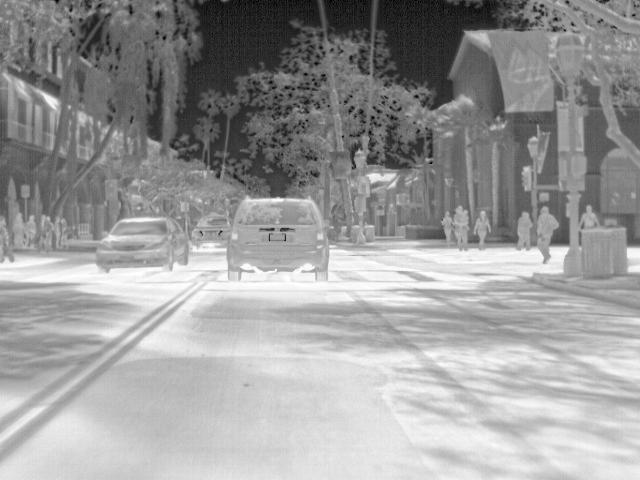car: (225, 194, 331, 283), (94, 215, 190, 274), (188, 214, 233, 248)
person: (533, 202, 557, 262), (513, 210, 533, 250), (453, 204, 469, 250), (0, 216, 16, 262), (474, 210, 493, 247), (40, 216, 55, 253), (580, 204, 600, 230), (12, 211, 25, 248), (57, 218, 72, 250), (440, 212, 454, 242), (24, 211, 37, 243)
